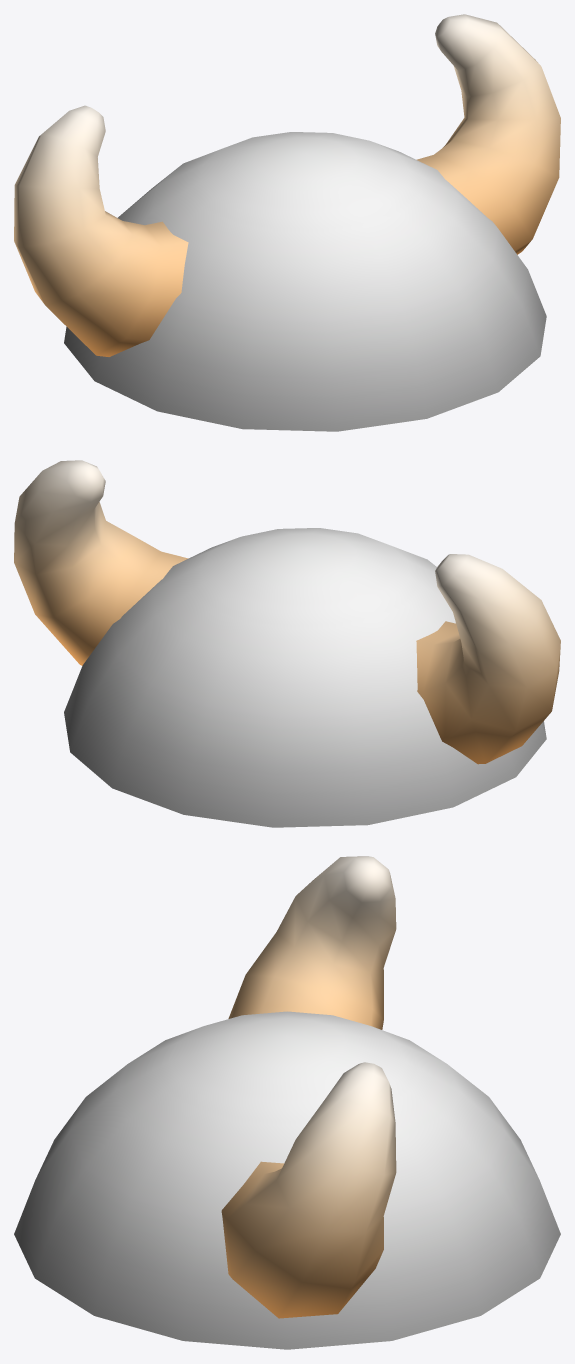
The model's file is Head_Prop_Helmet_Viking_01.fbx.
The picture shows the model from 3 angles, top to bottom: view 1: azimuth 30°, elevation 25°; view 2: azimuth 150°, elevation 25°; view 3: azimuth 270°, elevation 25°; orthographic projection. The views are drawn at different scales.
Parts seen in each view (by area): view 1: Head_Prop_Helmet_Viking_01; view 2: Head_Prop_Helmet_Viking_01; view 3: Head_Prop_Helmet_Viking_01.
Part boxes in pixels (box(x1,y1,x2,y2)): Head_Prop_Helmet_Viking_01: box(14, 14, 560, 431); Head_Prop_Helmet_Viking_01: box(14, 460, 560, 827); Head_Prop_Helmet_Viking_01: box(14, 856, 560, 1349).
Size of the model in its own units: 137 by 58.47 by 107.
